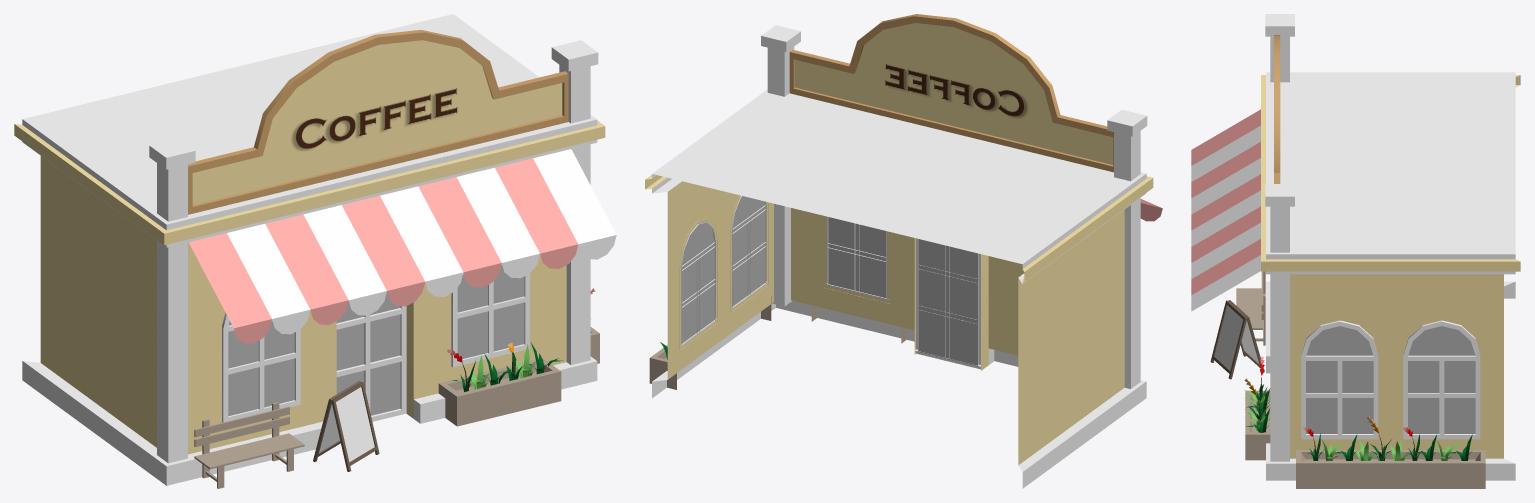
Rendered from coffee_shop.fbx.
3 renders of one model, left to right at view 1: azimuth 30°, elevation 25°; view 2: azimuth 150°, elevation 25°; view 3: azimuth 270°, elevation 25°, orthographic. The views are drawn at different scales.
Visible parts, largest first — view 1: coffee_shop; view 2: coffee_shop; view 3: coffee_shop.
Part boxes in pixels (x1,y1,x2,y2): coffee_shop: [14, 14, 616, 488]; coffee_shop: [645, 14, 1162, 488]; coffee_shop: [1191, 14, 1520, 488].
Bounding box in the file's own units: 639 × 523 × 460.
Materials: 1 (1 with a texture image).
